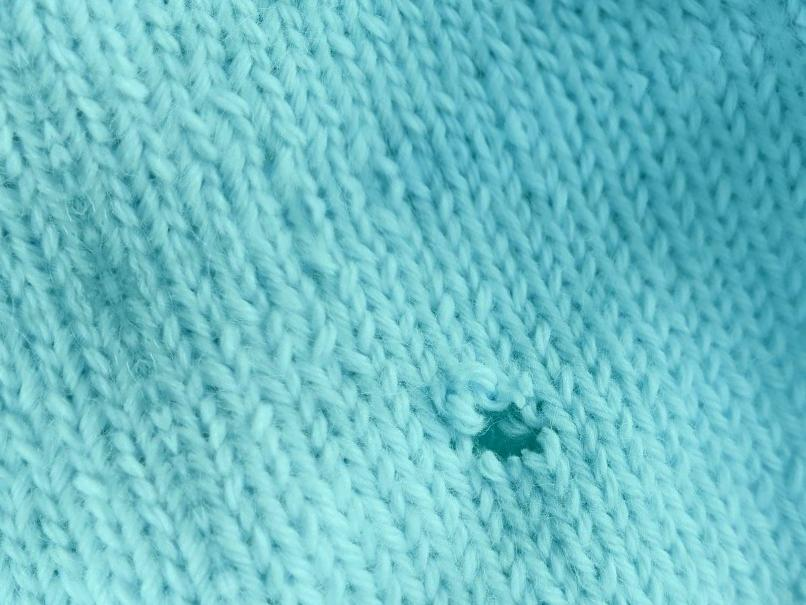hole: (447, 387, 574, 472)
